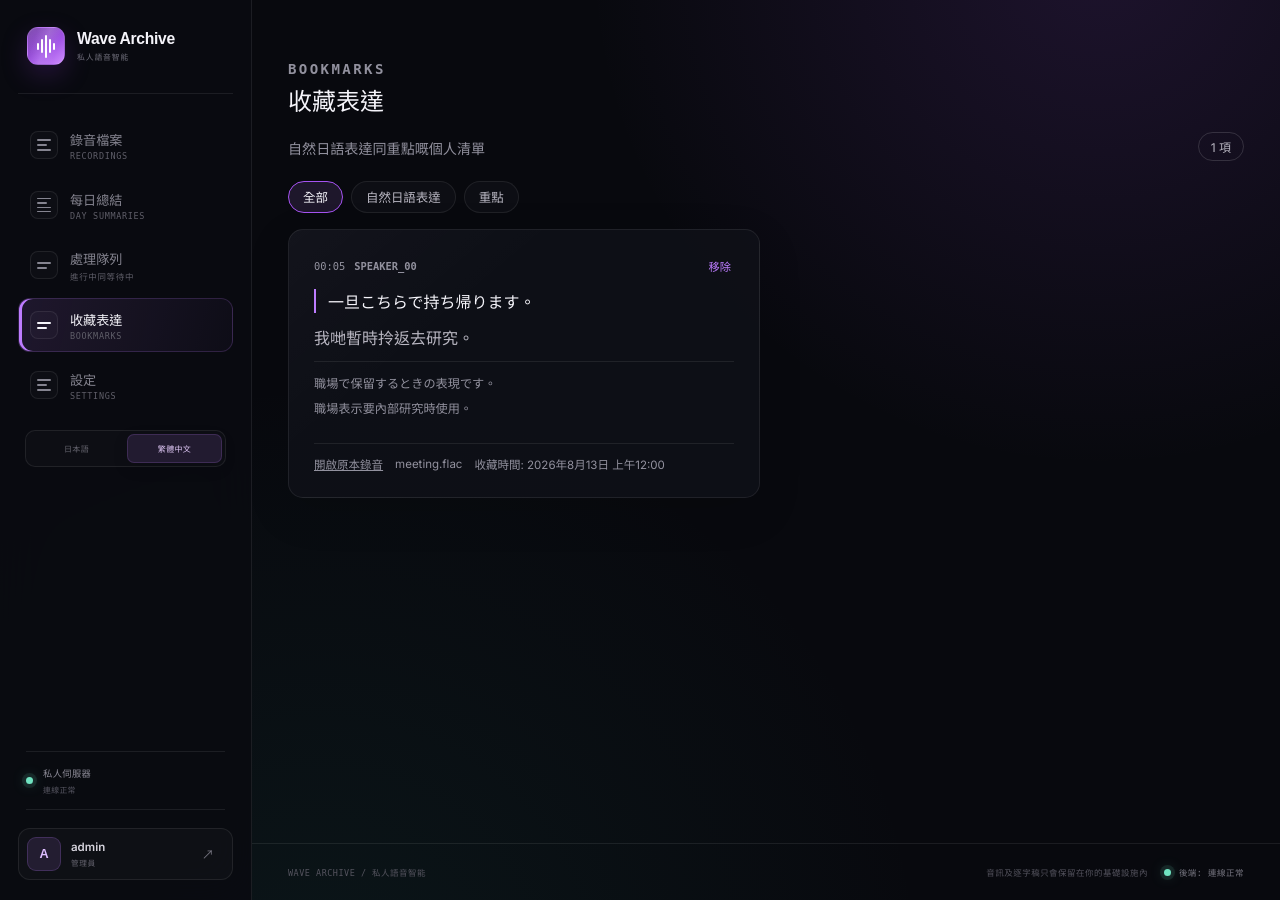
bookmarks page › removes a saved quote and drops it from the list
This screenshot has width=1280, height=900.
Expected: the text "一旦こちらで持ち帰ります。" is shown, [314,289,734,313]
Click the button "移除" at [720, 266], box [706,255,734,277]
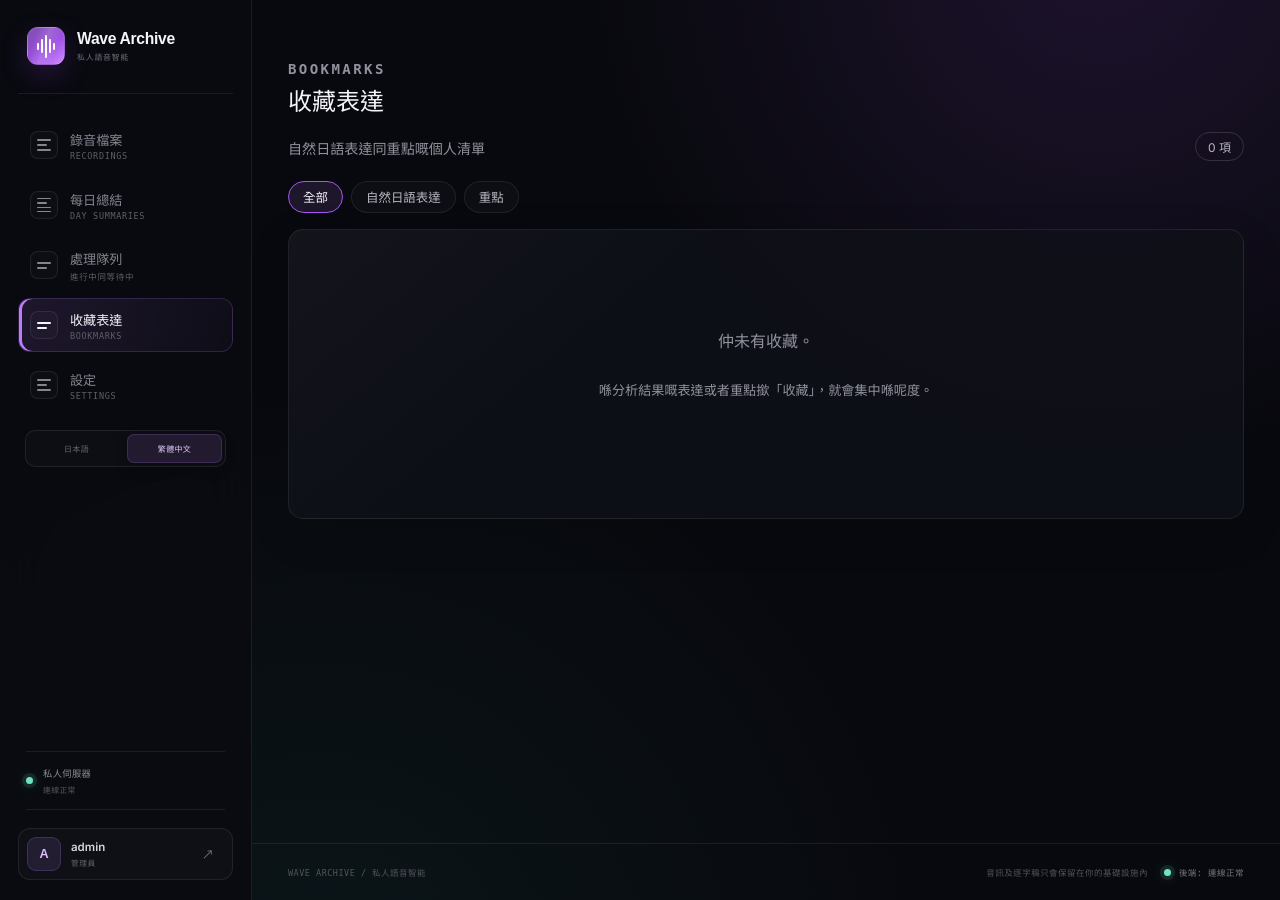
Expected: the text "一旦こちらで持ち帰ります。" is gone
Expected: the text "仲未有收藏。" is shown, [718,328,814,352]
